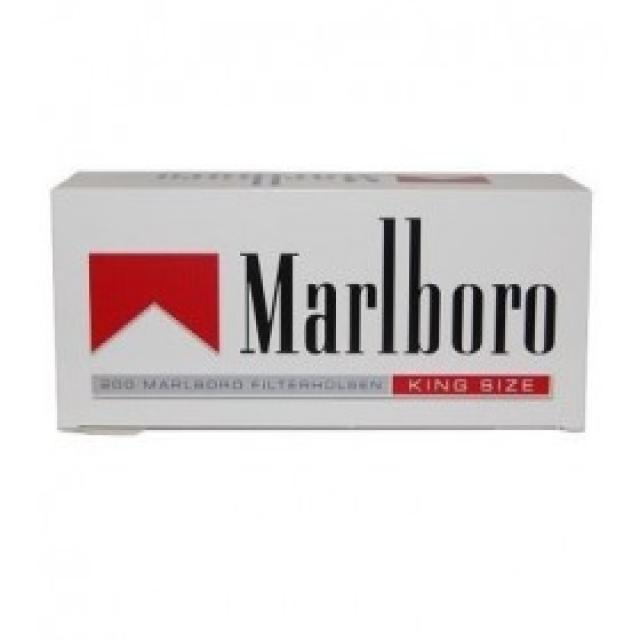marlboro: (47, 174, 598, 434)
